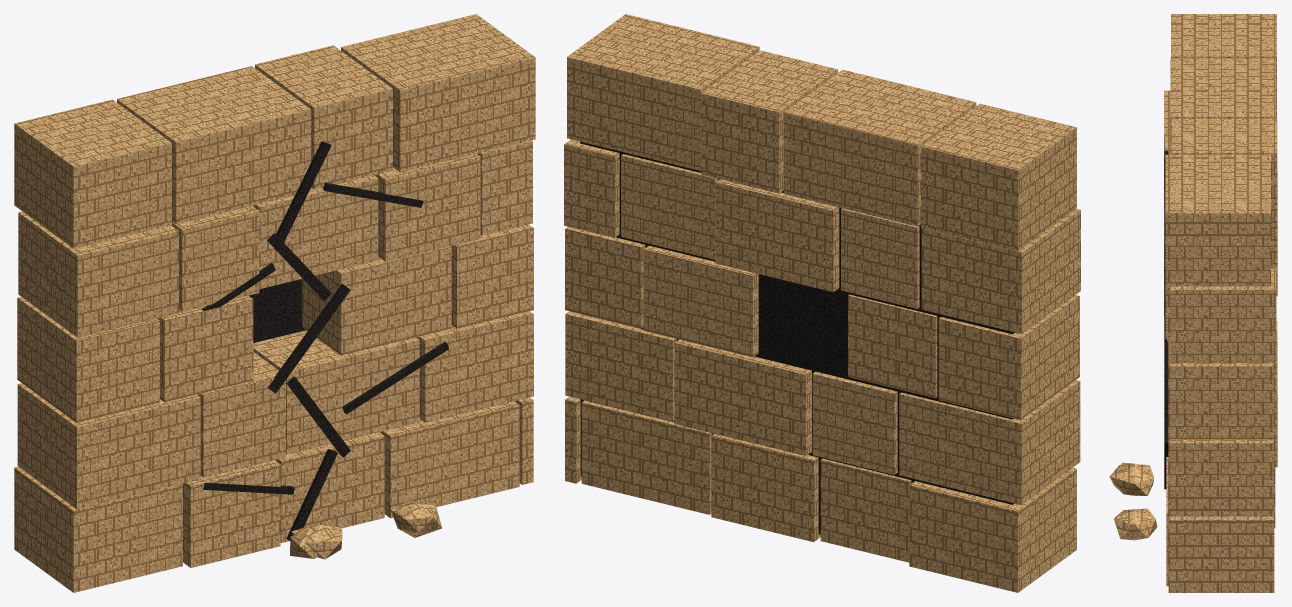
Rendered from wall_cracked_sand.glb.
The picture shows the model from 3 angles, left to right: view 1: azimuth 30°, elevation 25°; view 2: azimuth 150°, elevation 25°; view 3: azimuth 270°, elevation 25°; orthographic projection. The views are drawn at different scales.
Parts seen in each view (by area): view 1: Body; view 2: Body; view 3: Body.
Part boxes in pixels (box(x1,y1,x2,y2)): Body: box(14, 14, 535, 592); Body: box(564, 14, 1080, 592); Body: box(1109, 14, 1277, 592).
Bounding box in the file's own units: 3.57 × 3.23 × 1.27.
Materials: 2 (2 with a texture image).
